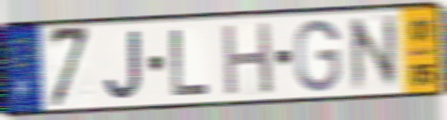7: (47, 24, 93, 113)
G: (293, 17, 343, 94)
H: (220, 19, 276, 99)
J: (102, 27, 145, 102)
L: (168, 27, 213, 99)
N: (346, 11, 402, 95)
